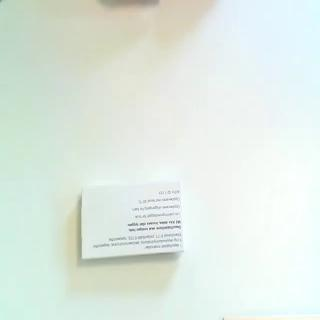oxycontin5mg: (80, 180, 186, 262)
